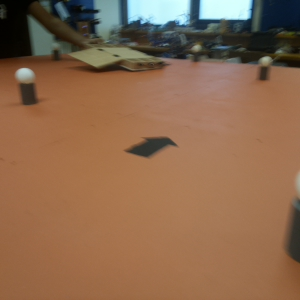corner: (77, 21, 92, 36)
obstacle: (284, 170, 300, 264), (15, 67, 41, 105), (256, 57, 275, 80), (191, 45, 201, 61), (51, 44, 60, 60)
side: (123, 57, 166, 71)
slope: (68, 47, 120, 68)
start: (124, 137, 179, 160)
